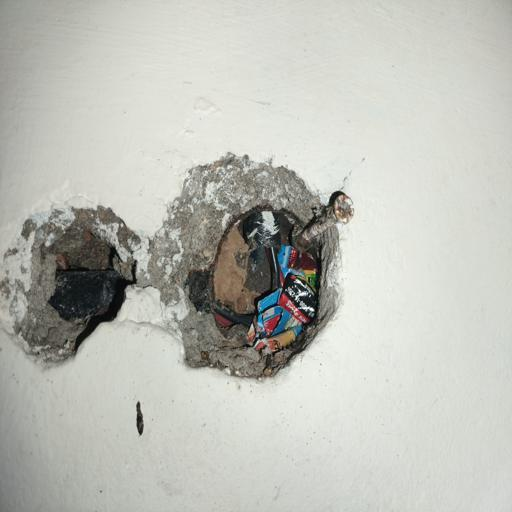spalling: (3, 156, 364, 386)
